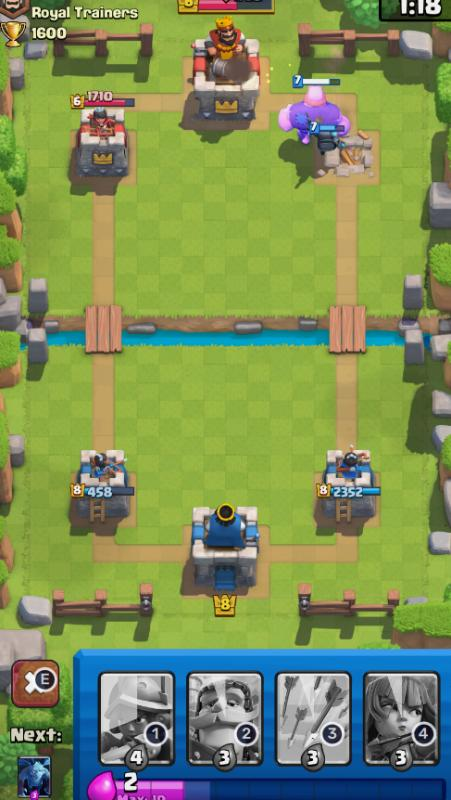geant: (291, 68, 355, 150)
mini_PEKKA: (308, 118, 361, 163)
